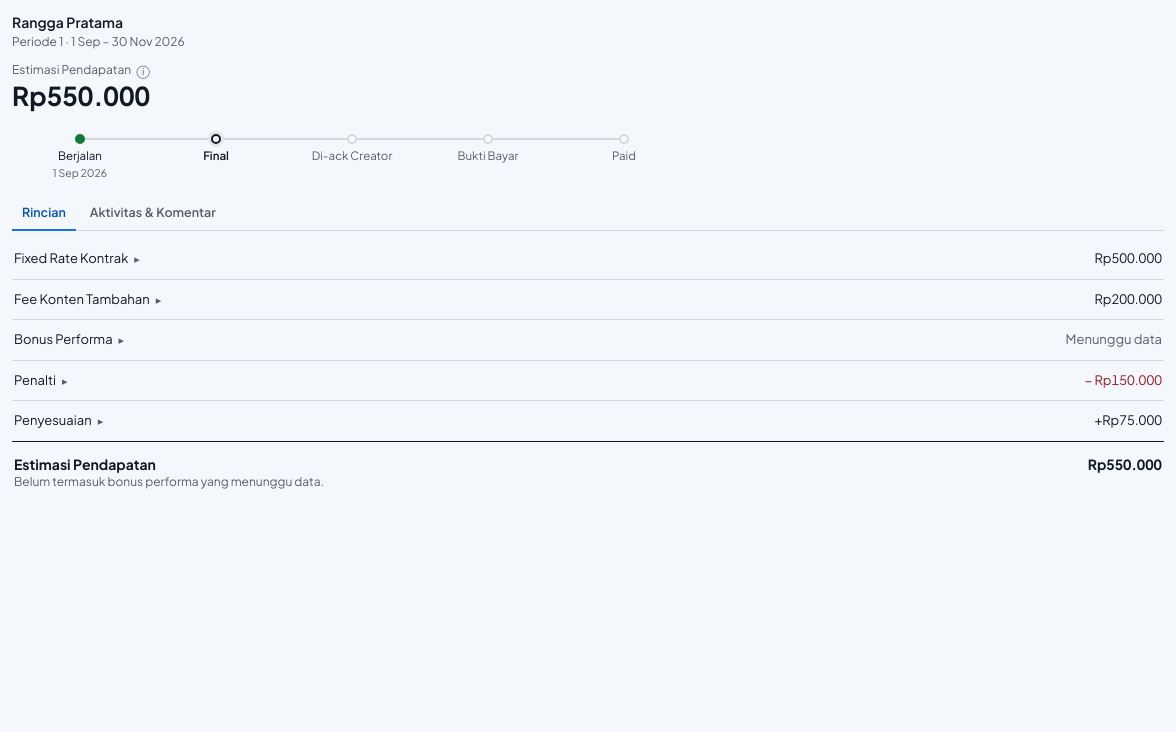
Test case: CreatorInvoiceView › the parts › adds the adjustments up and lists each with its reason and date when opened
Click the button "Penyesuaian ▸ +Rp75.000" at (53, 420), box [12,401,1164,441]
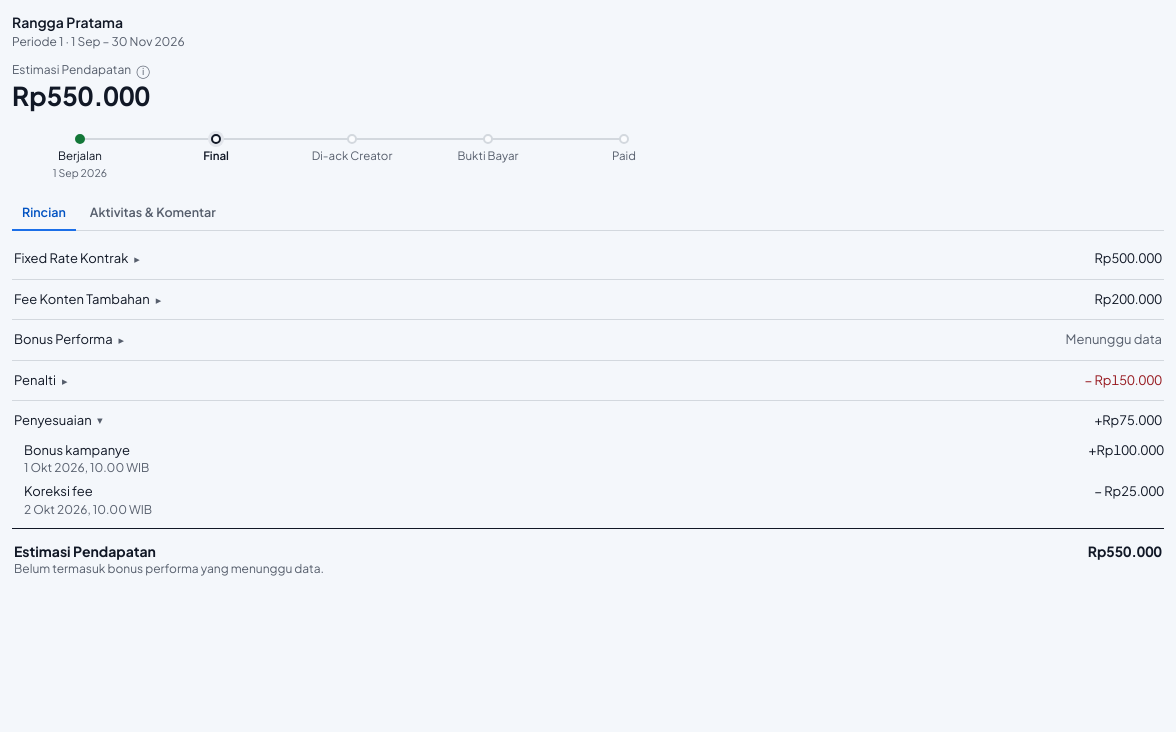
Now the list item "Bonus kampanye 1 Okt 2026, 10.00 WIB +Rp100.000" is shown, box [24,441,1164,476]
Now the list item "Koreksi fee 2 Okt 2026, 10.00 WIB − Rp25.000" is shown, box [24,482,1164,518]
